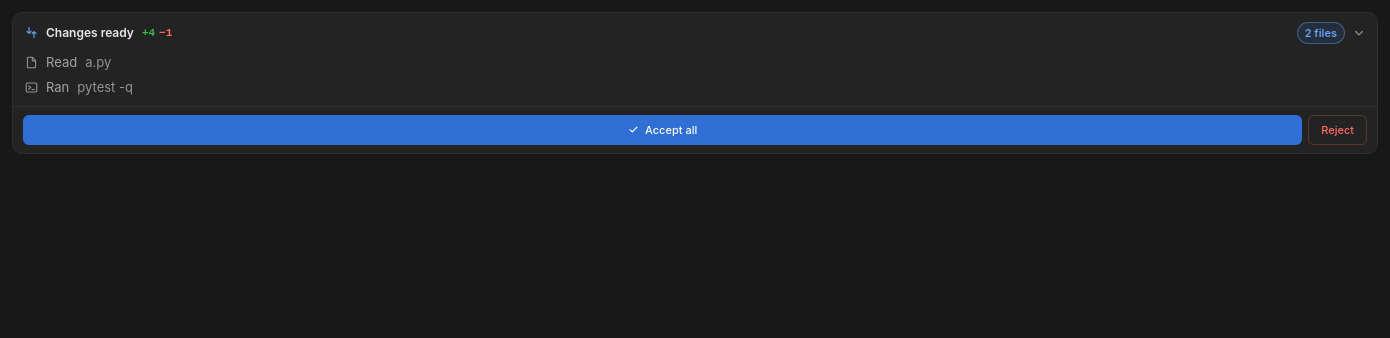
Test case: DiffCard — persisted tool steps › expands a step to show its input and output
Step 1. Click the button "Ran pytest -q" → (105, 87), box [25, 78, 1365, 98]
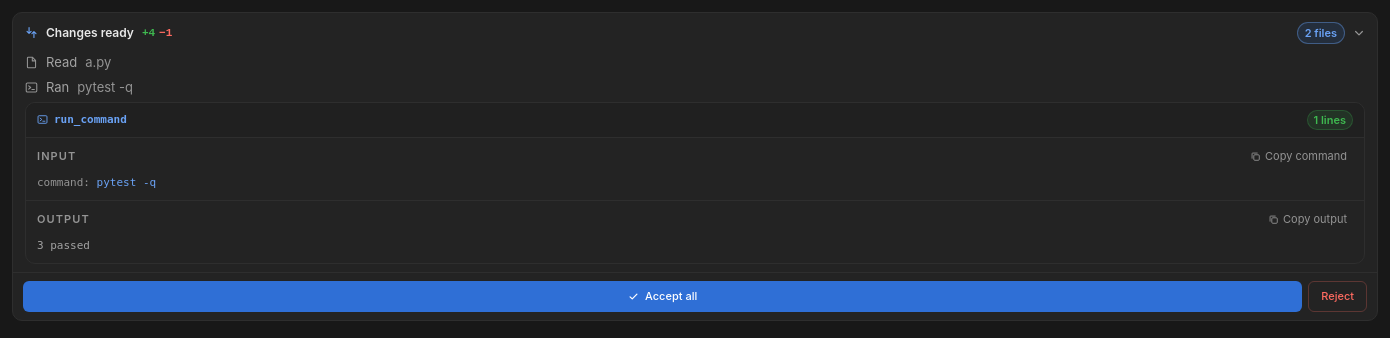
Check: the text "3 passed" is shown, box [37, 239, 90, 252]
